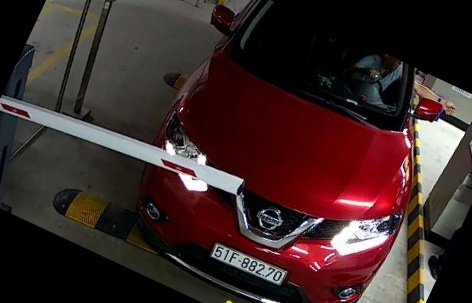plate: (205, 236, 291, 289)
